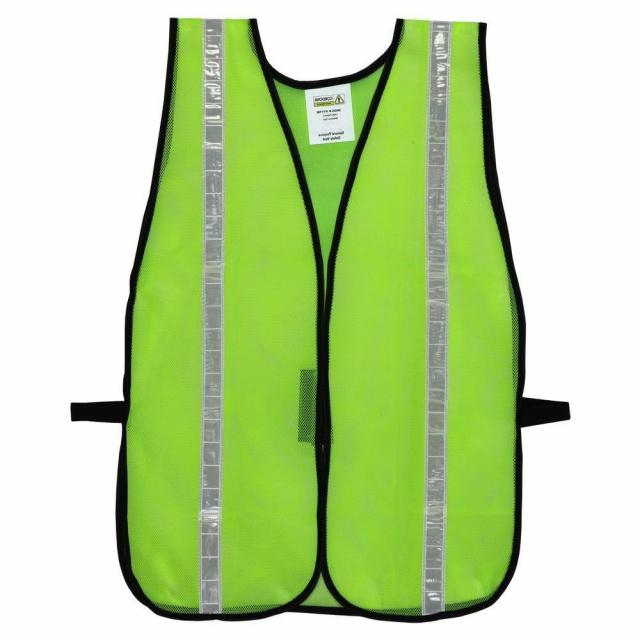Reflective-Jacket: (25, 0, 596, 640)
